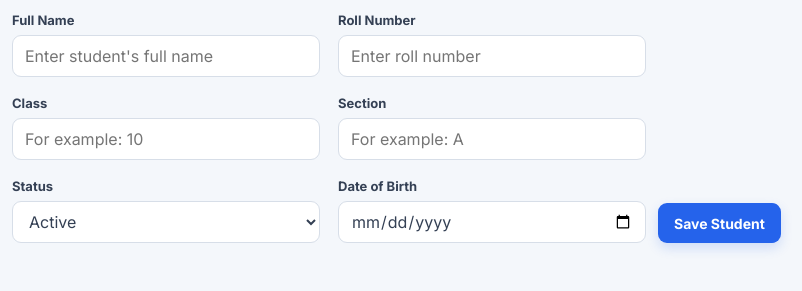
StudentForm › rejects a decimal roll number
The image size is (802, 291).
Type "Amelia Rao" into the field labelled "Full Name" at (166, 56), box [12,35,320,77]
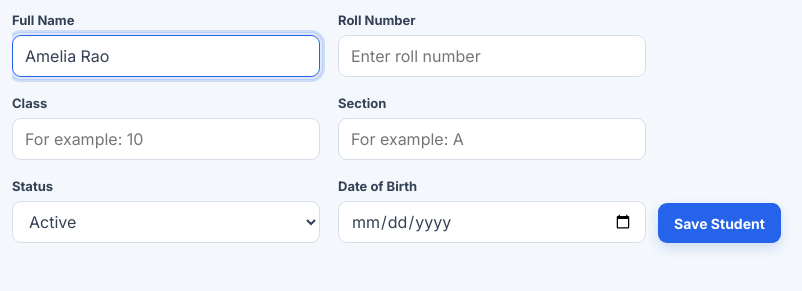
Type "1.5" into the number field labelled "Roll Number" at (492, 56), box [338,35,646,77]
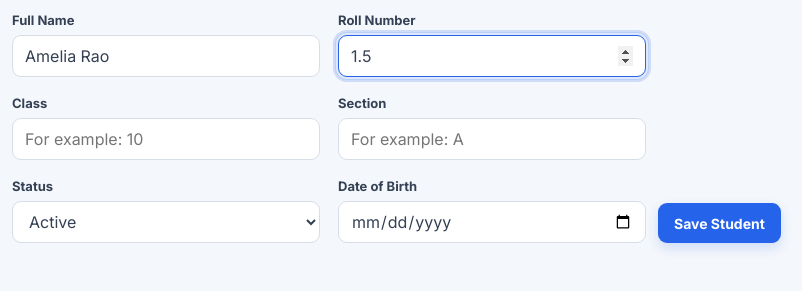
Type "10" into the field labelled "Class" at (166, 139), box [12,118,320,160]
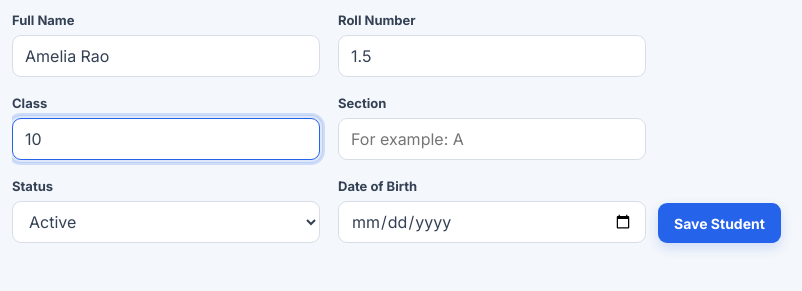
Type "A" into the field labelled "Section" at (492, 139), box [338,118,646,160]
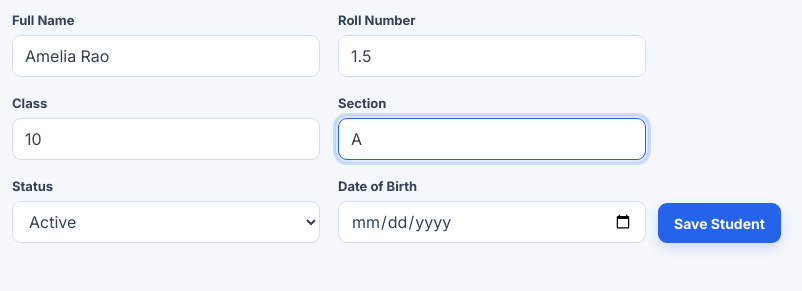
Type "2012-05-01" into the date field labelled "Date of Birth" at (492, 222), box [338,201,646,243]
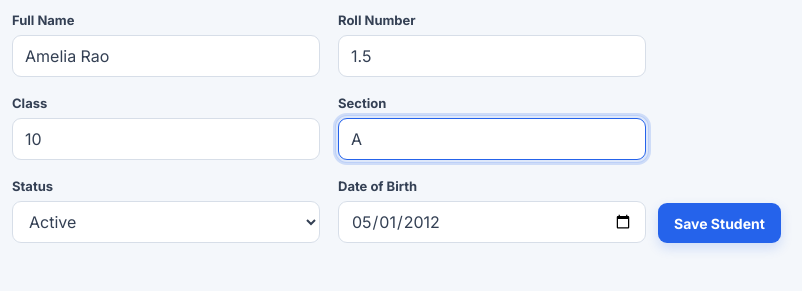
Click the button "Save Student" at (719, 223), box [658,203,781,243]
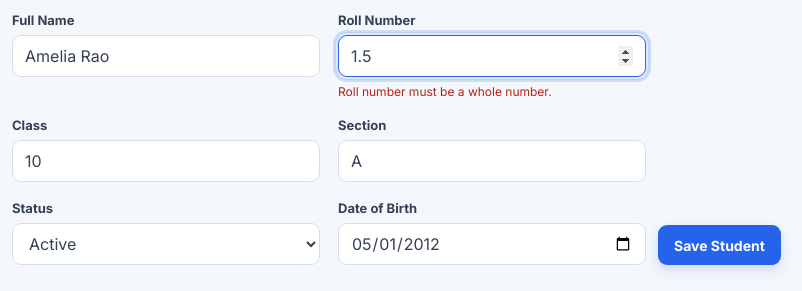
Expected: the text "Roll number must be a whole number." is shown, [338,84,552,99]
